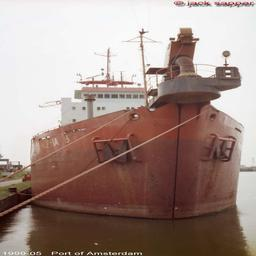Ship: (27, 29, 249, 225)
